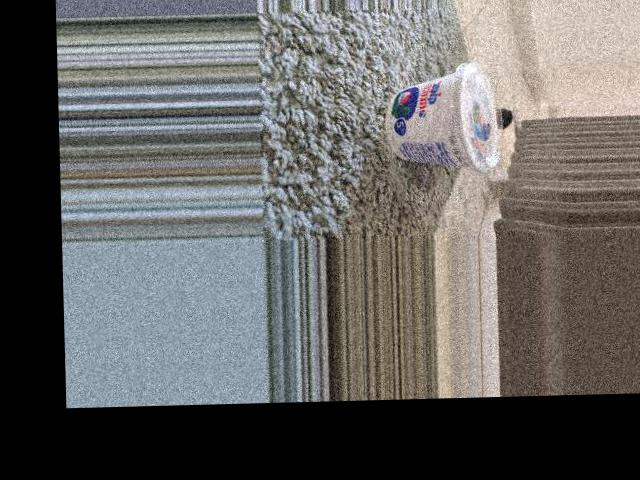cotage: (381, 68, 504, 169)
